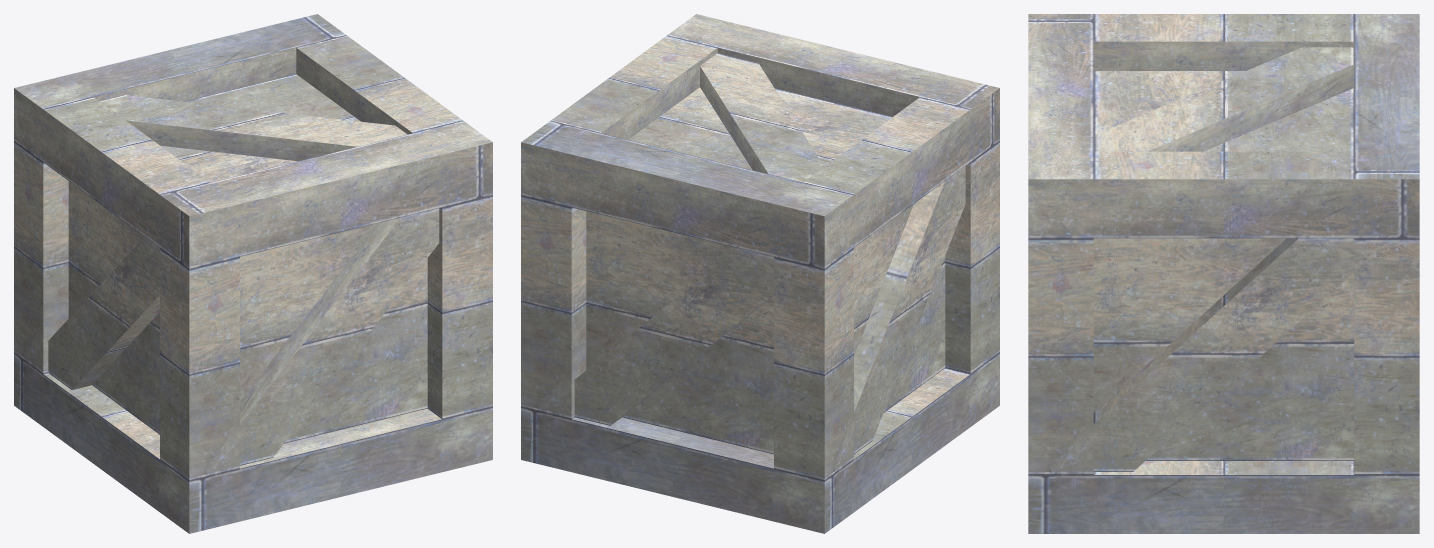
Rendered from xzzzz.obj.
3 views of the same model, side by side, from view 1: azimuth 30°, elevation 25°; view 2: azimuth 150°, elevation 25°; view 3: azimuth 270°, elevation 25° (orthographic). The views are drawn at different scales.
Visible parts, largest first — view 1: Box1; view 2: Box1; view 3: Box1.
Part boxes in pixels (<box>): Box1: <box>14,14,492,533</box>; Box1: <box>521,14,999,533</box>; Box1: <box>1028,14,1419,533</box>.
Size of the model in its own units: 3 by 3 by 3.
1 material, 1 textured.
